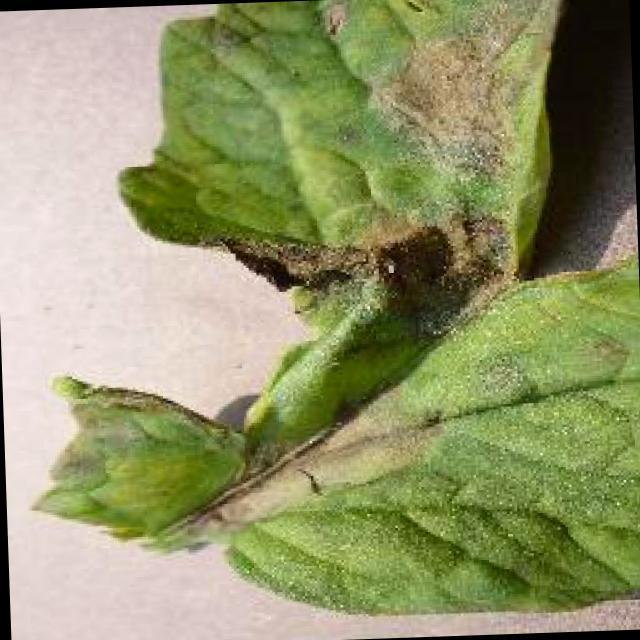Tomato late blight leaf: (9, 0, 640, 630)
